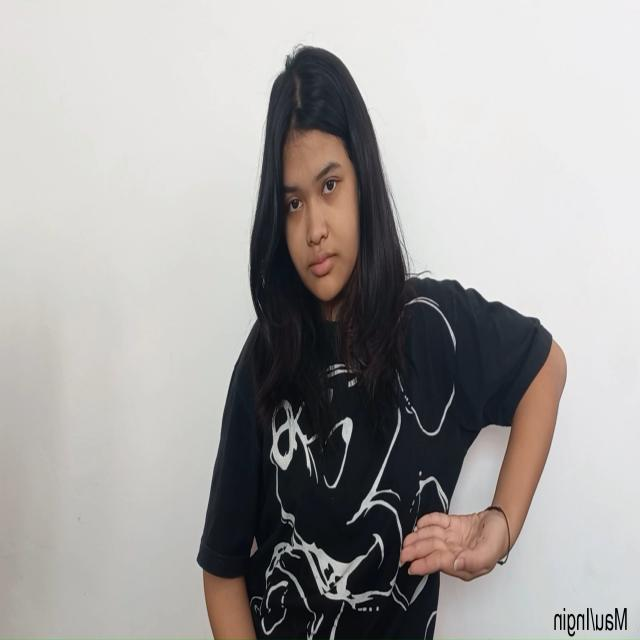Mau-Ingin -BISINDO-: (397, 505, 512, 585)
